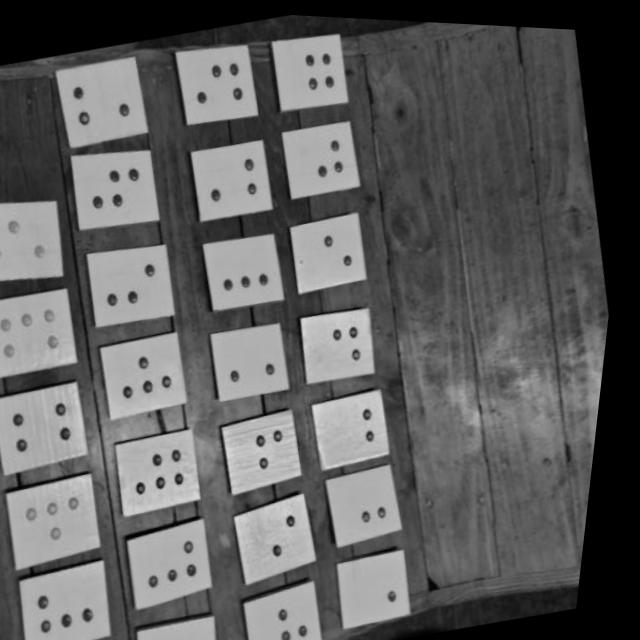braiile: (1, 379, 99, 473), (17, 471, 112, 566), (89, 236, 185, 327), (56, 55, 152, 141), (70, 143, 165, 227), (29, 560, 128, 640), (204, 225, 294, 311), (106, 330, 198, 414), (0, 287, 84, 374), (192, 135, 279, 217), (176, 39, 264, 120), (214, 316, 302, 397), (243, 491, 328, 573), (126, 425, 210, 507), (270, 26, 354, 106), (231, 406, 316, 481), (140, 522, 223, 595), (295, 211, 376, 282), (284, 117, 362, 188), (0, 198, 69, 277), (310, 306, 386, 374), (323, 388, 399, 455), (266, 588, 340, 640), (358, 558, 426, 612), (353, 473, 412, 527), (152, 614, 233, 640)
